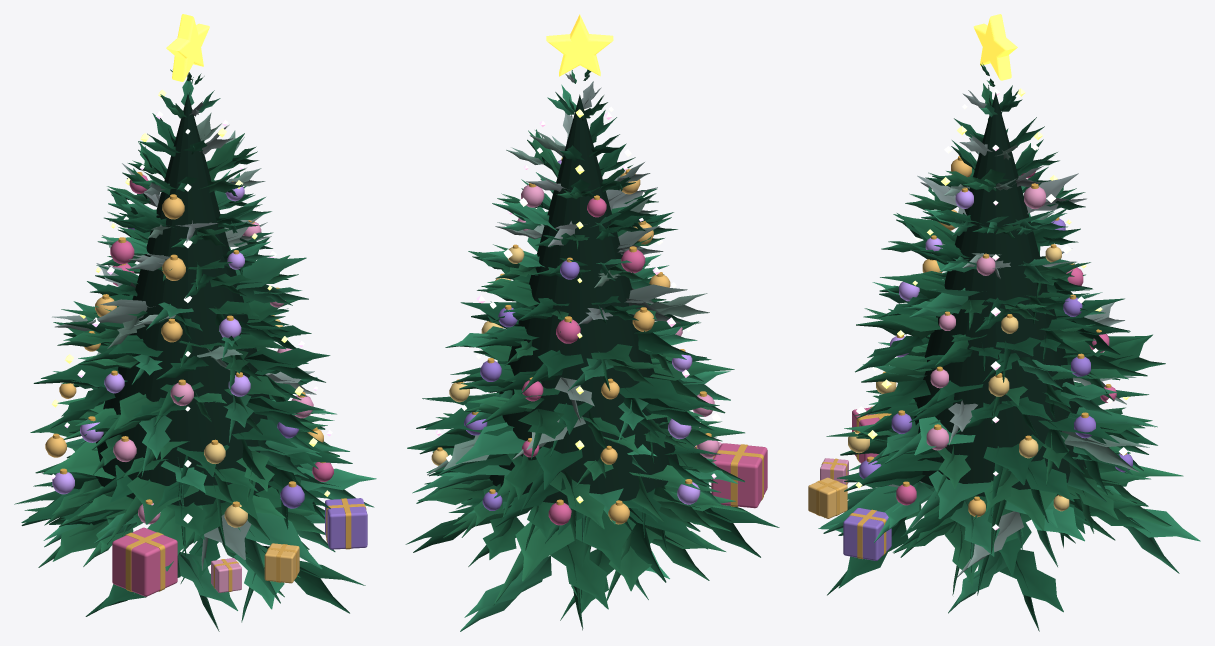
The model's file is christmas-tree-still.glb.
The picture shows the model from 3 angles, left to right: view 1: azimuth 30°, elevation 25°; view 2: azimuth 150°, elevation 25°; view 3: azimuth 270°, elevation 25°; orthographic projection.
Parts seen in each view (by area): view 1: boughs, core, present_0_box, present_1_box, star_shape, present_2_box, present_3_box; view 2: boughs, core, present_0_box, star_shape; view 3: boughs, core, present_1_box, star_shape, present_2_box.
Boxes of the visible parts, box(x1,y1,x2,y2) form: boughs: box(14, 69, 376, 631); core: box(95, 94, 273, 506); present_0_box: box(112, 527, 177, 596); present_1_box: box(325, 498, 367, 549); star_shape: box(166, 14, 209, 81); present_2_box: box(264, 543, 299, 583); present_3_box: box(211, 558, 241, 592); boughs: box(405, 69, 779, 631); core: box(489, 94, 678, 504); present_0_box: box(711, 443, 767, 508); star_shape: box(546, 14, 613, 76); boughs: box(818, 63, 1200, 631); core: box(913, 92, 1086, 496); present_1_box: box(843, 508, 891, 560); star_shape: box(973, 14, 1017, 80); present_2_box: box(808, 477, 847, 518).
Size of the model in its own units: 0.672 by 1.19 by 0.7749.
18 materials, 1 textured.
